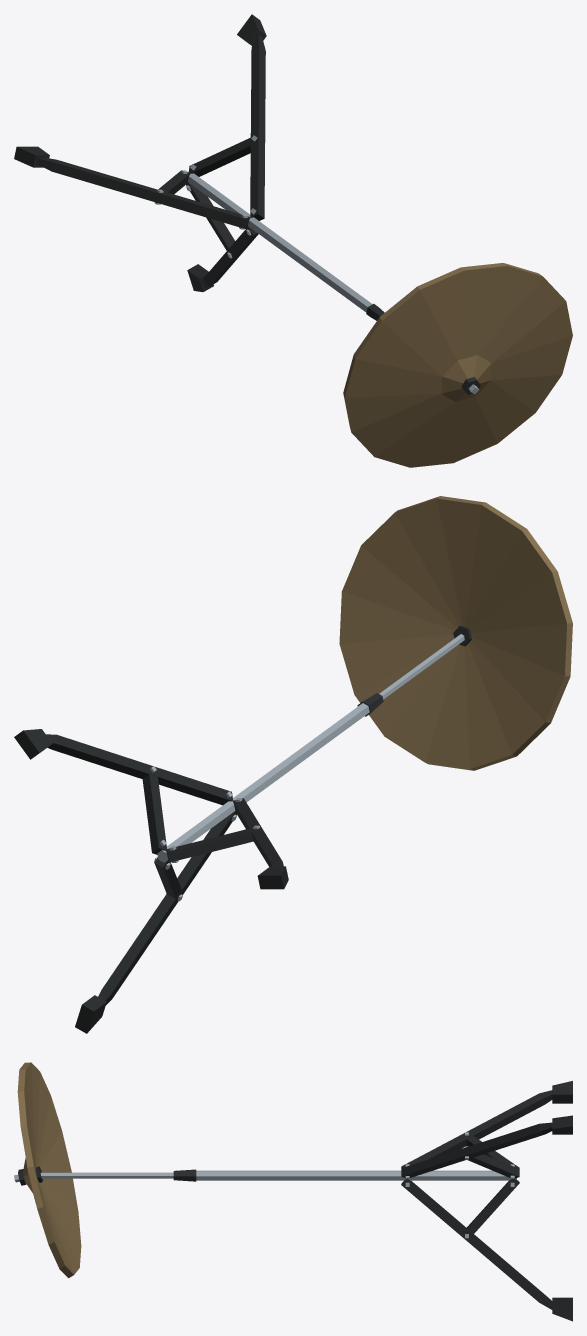
Rendered from SM_Prop_Music_Drums_Kit_01_Seat_01_Part_01.110.obj.
3 renders of one model, top to bottom at view 1: azimuth 30°, elevation 25°; view 2: azimuth 150°, elevation 25°; view 3: azimuth 270°, elevation 25°, orthographic. The views are drawn at different scales.
Parts seen in each view (by area): view 1: SM_Prop_Music_Drums_Kit_01_Seat_01_Part_01.110_0; view 2: SM_Prop_Music_Drums_Kit_01_Seat_01_Part_01.110_0; view 3: SM_Prop_Music_Drums_Kit_01_Seat_01_Part_01.110_0.
Part boxes in pixels (x1=…): SM_Prop_Music_Drums_Kit_01_Seat_01_Part_01.110_0: x1=14, y1=14, x2=572, y2=467; SM_Prop_Music_Drums_Kit_01_Seat_01_Part_01.110_0: x1=14, y1=496, x2=572, y2=1033; SM_Prop_Music_Drums_Kit_01_Seat_01_Part_01.110_0: x1=14, y1=1062, x2=572, y2=1321.
Bounding box in the file's own units: 56.36 × 56.4 × 124.
